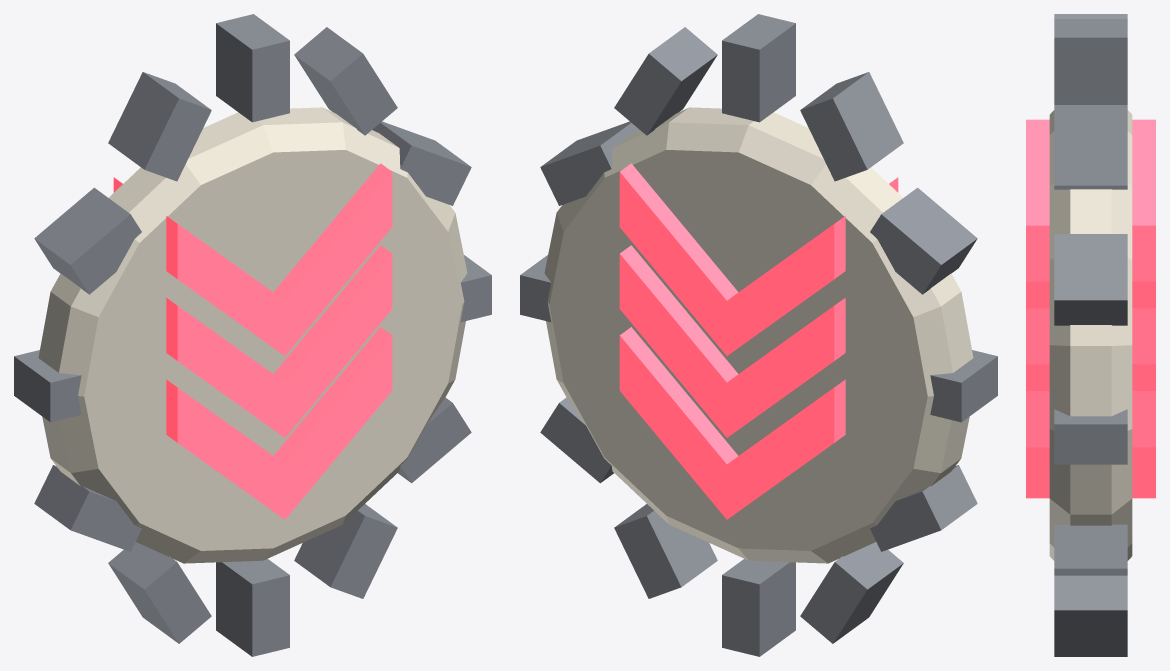
The model's file is pickups-and-collectibles-damage-rune-cfd8ce61__19895.glb.
3 views of the same model, side by side, from view 1: azimuth 30°, elevation 25°; view 2: azimuth 150°, elevation 25°; view 3: azimuth 270°, elevation 25° (orthographic).
Visible parts, largest first — view 1: body/bone, body/iron, body/ruby; view 2: body/bone, body/iron, body/ruby; view 3: body/iron, body/bone, body/ruby.
Part boxes in pixels (<box>): body/bone: <box>38,107,467,563</box>; body/iron: <box>14,14,491,656</box>; body/ruby: <box>113,163,392,519</box>; body/bone: <box>544,107,973,563</box>; body/iron: <box>520,14,997,656</box>; body/ruby: <box>619,163,898,519</box>; body/iron: <box>1054,14,1127,656</box>; body/bone: <box>1049,110,1132,560</box>; body/ruby: <box>1026,119,1155,498</box>.
Bounding box in the file's own units: 0.35 × 0.46 × 0.088.
